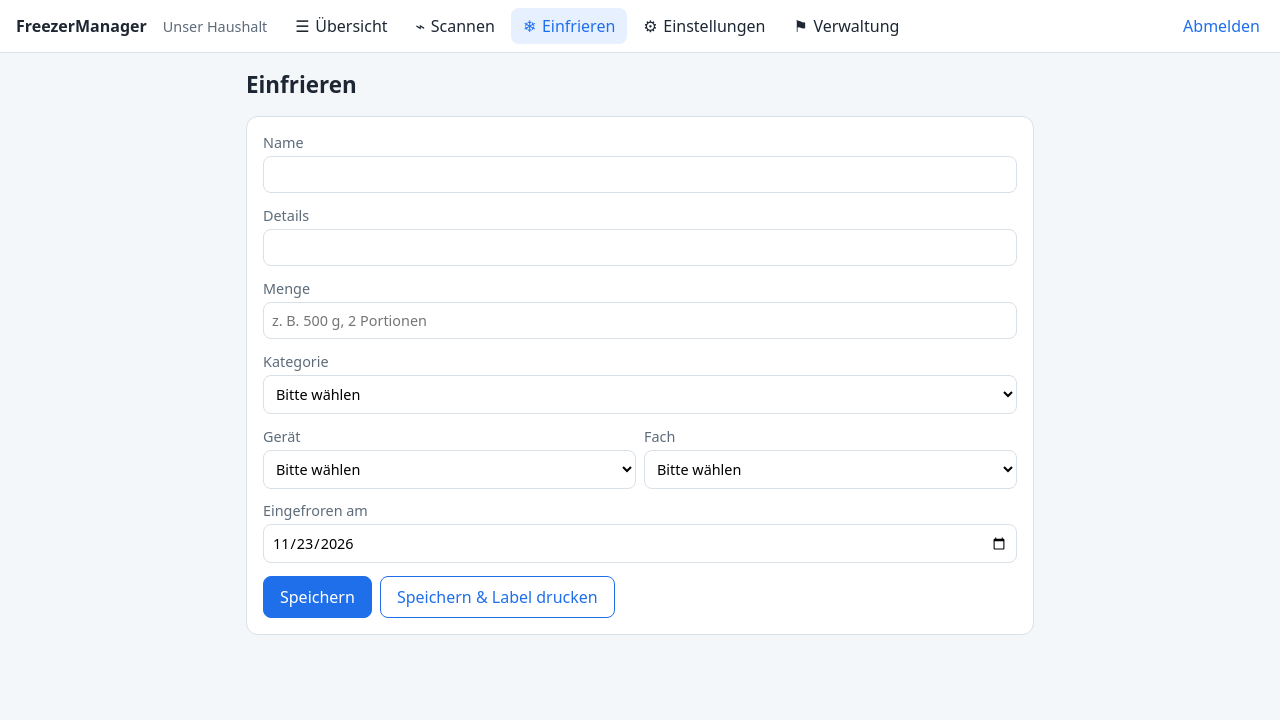
Test case: "Speichern & Label drucken" prints the new item
Expected: the heading "Einfrieren" is shown, [246,69,357,100]
Type "Gulasch" into the field labelled "Name" at coordinates (640, 175), box [263,156,1017,193]
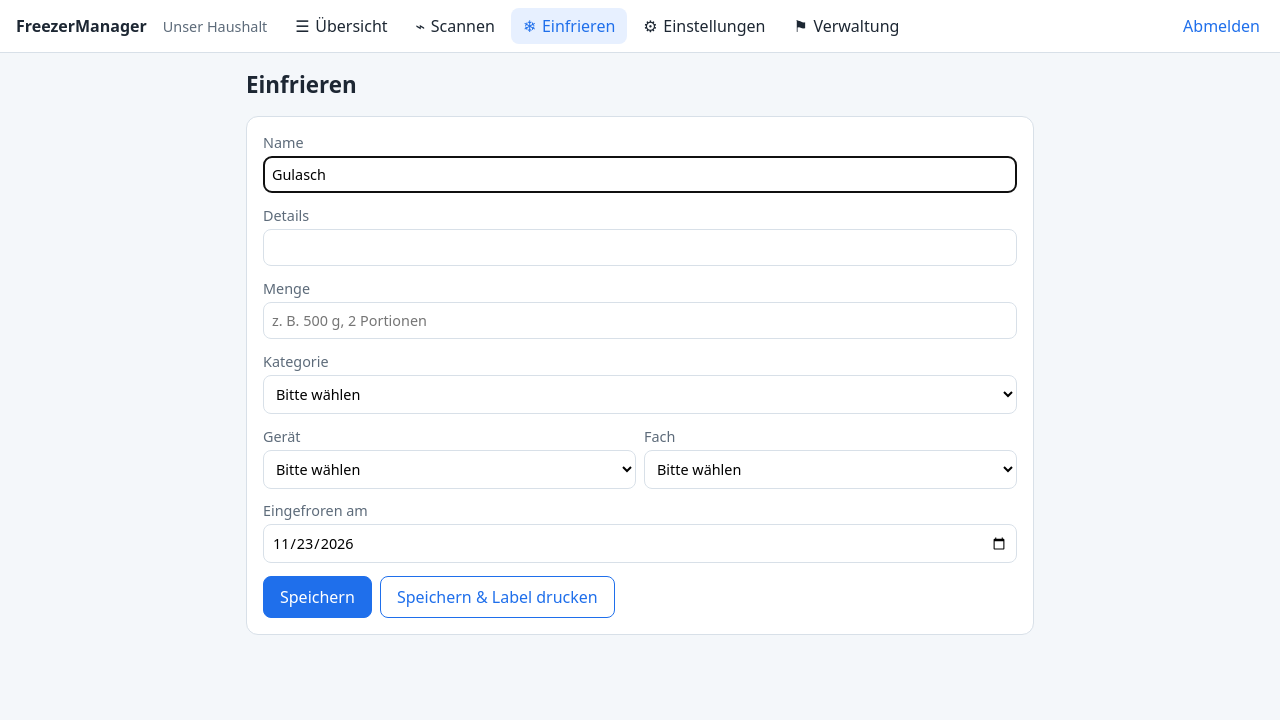
Select "Fleisch" in the dropdown labelled "Kategorie" at coordinates (640, 394), box [263,375,1017,414]
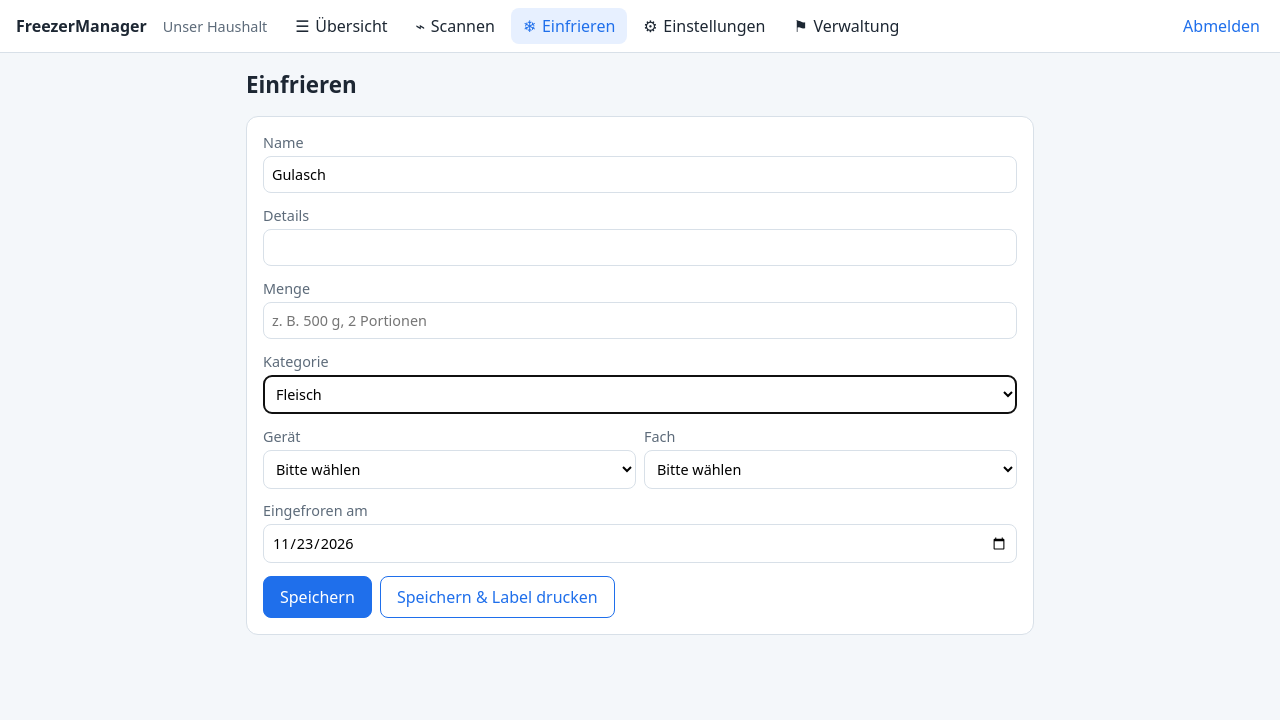
Select "Keller-Truhe" in the dropdown labelled "Gerät" at coordinates (450, 469), box [263,450,636,489]
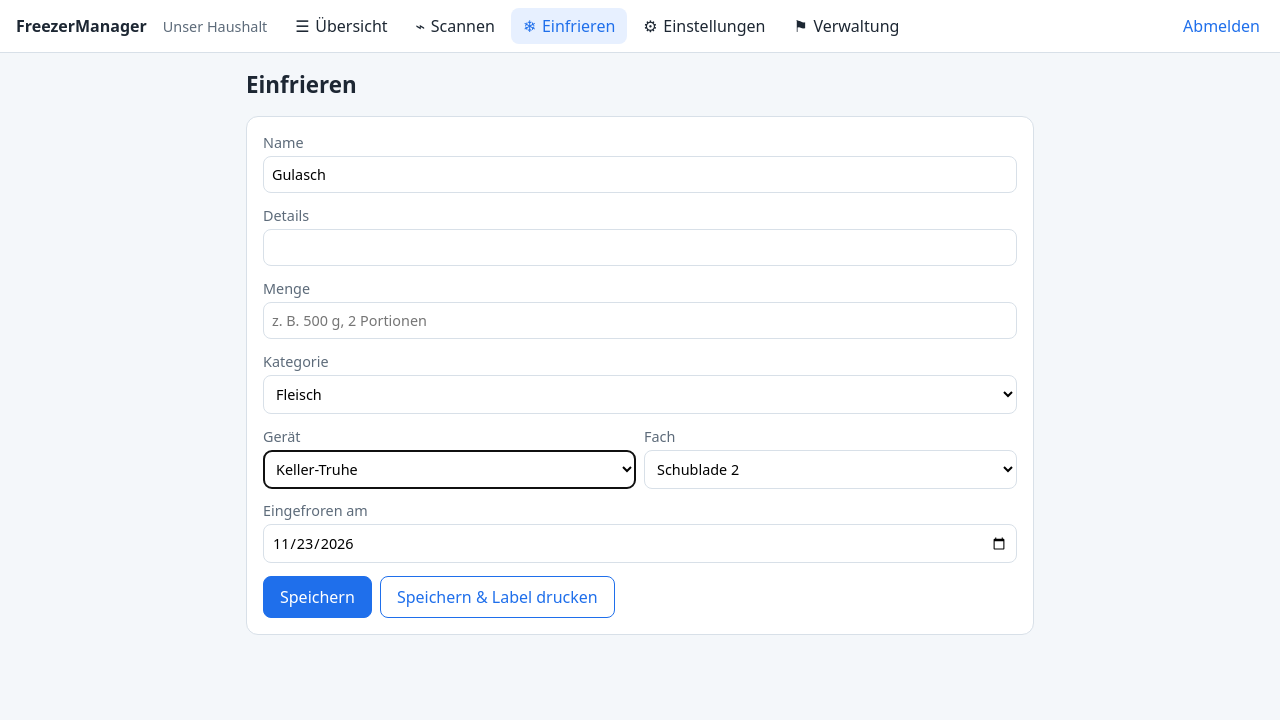
Select "Schublade 2" in the dropdown labelled "Fach" at coordinates (830, 469), box [644,450,1017,489]
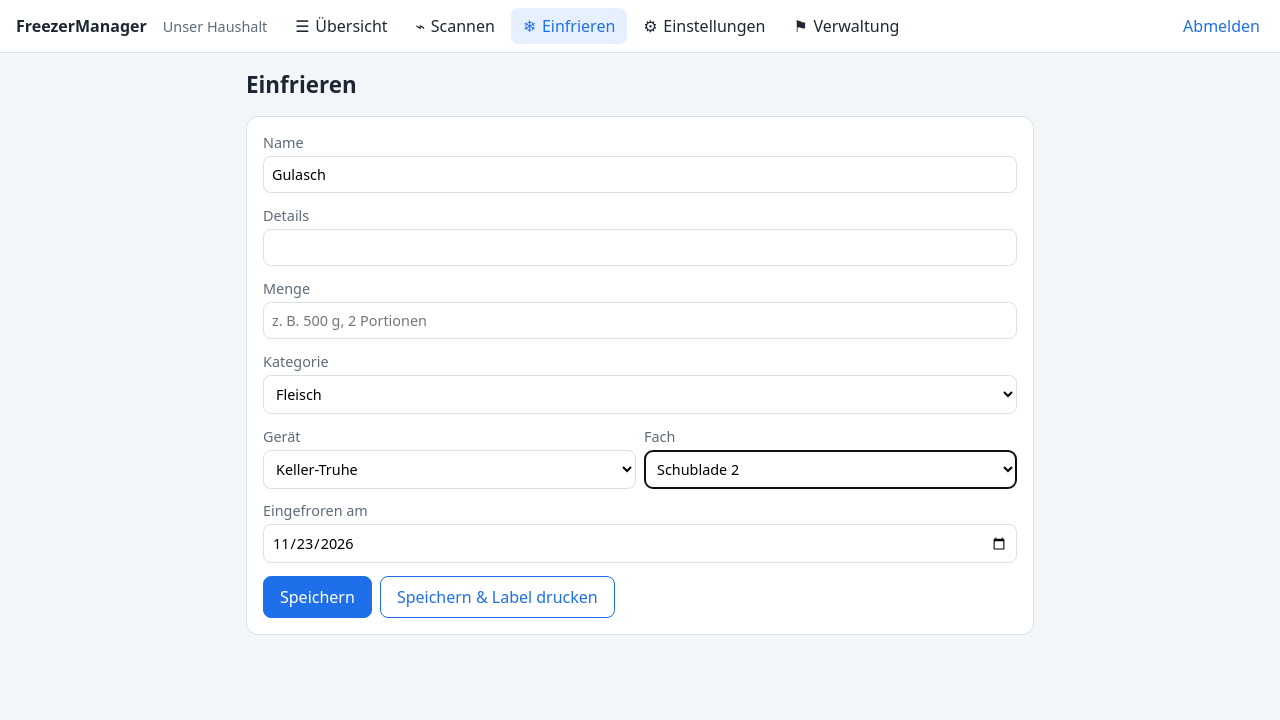
Click the button "Speichern & Label drucken" at coordinates (497, 597), box [380,576,615,618]
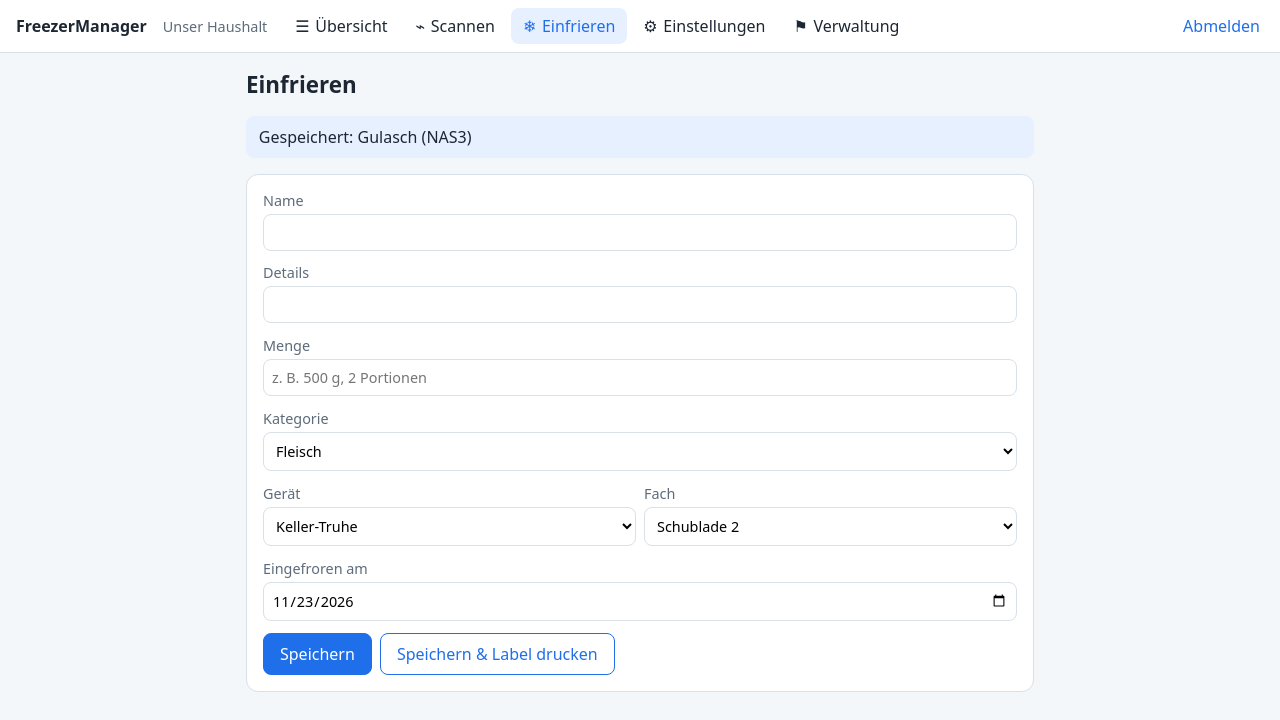
Expected: the text "Gespeichert: Gulasch" is shown, [259,126,472,148]
